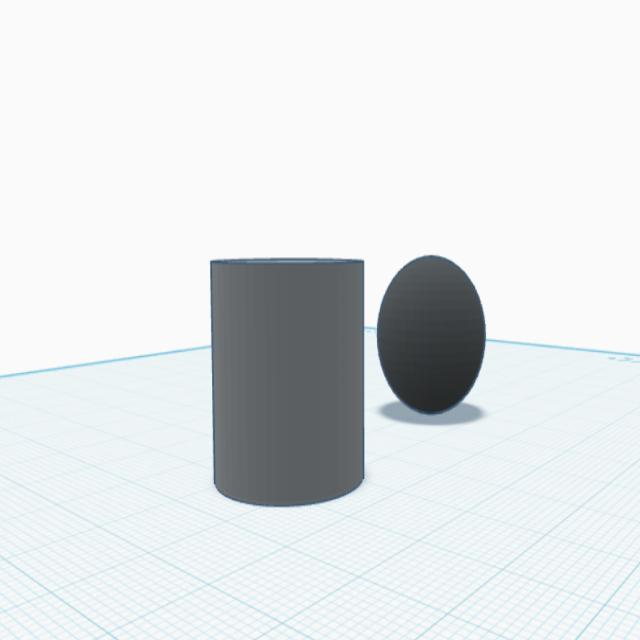sphere: (374, 251, 489, 424)
